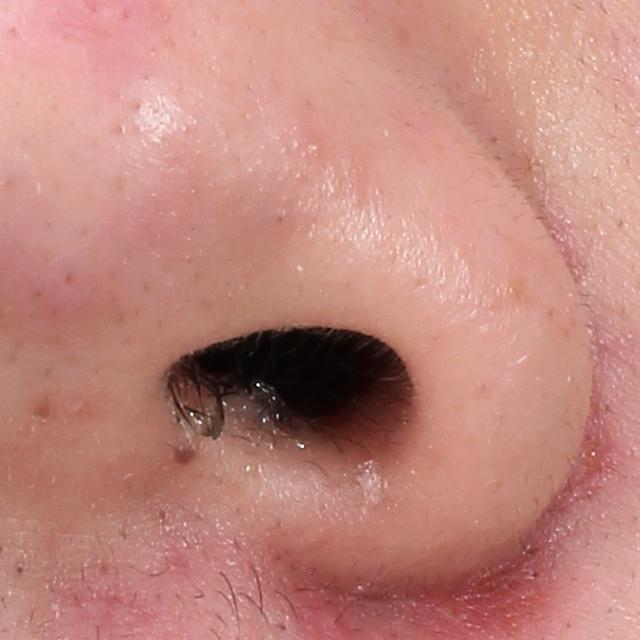comedo: (307, 136, 326, 162), (154, 504, 172, 524)
nevus: (171, 438, 198, 465)
